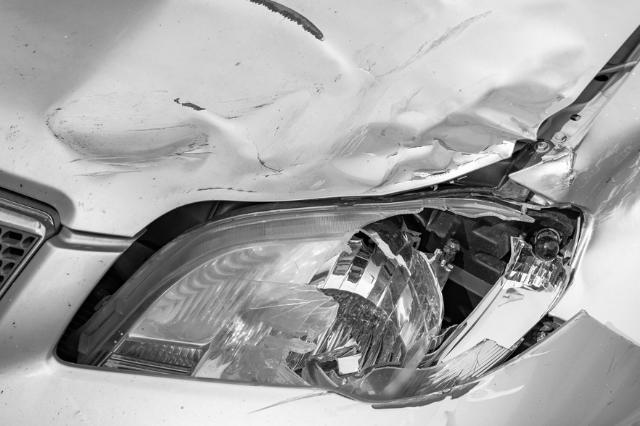Bonnet: (50, 5, 600, 202)
Bumper: (244, 363, 635, 426)
Fender: (552, 125, 640, 295)
Light: (277, 209, 564, 381)
